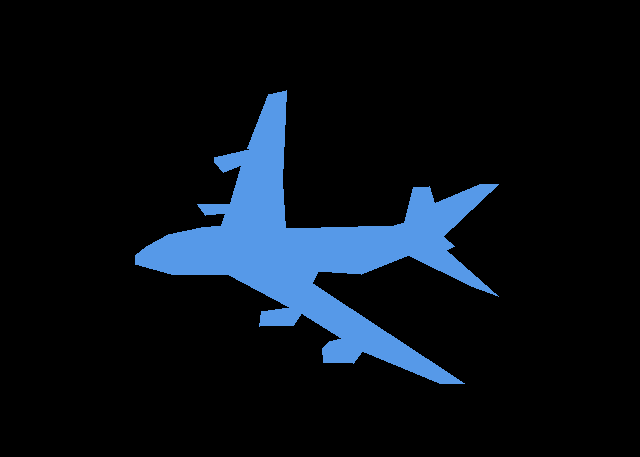Airplane: (135, 90, 498, 383)
